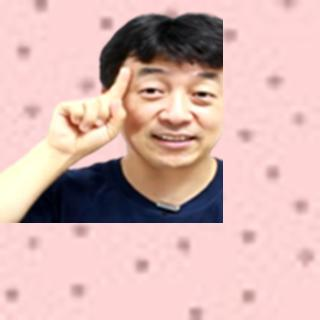IRRITATED: (45, 64, 134, 159)
